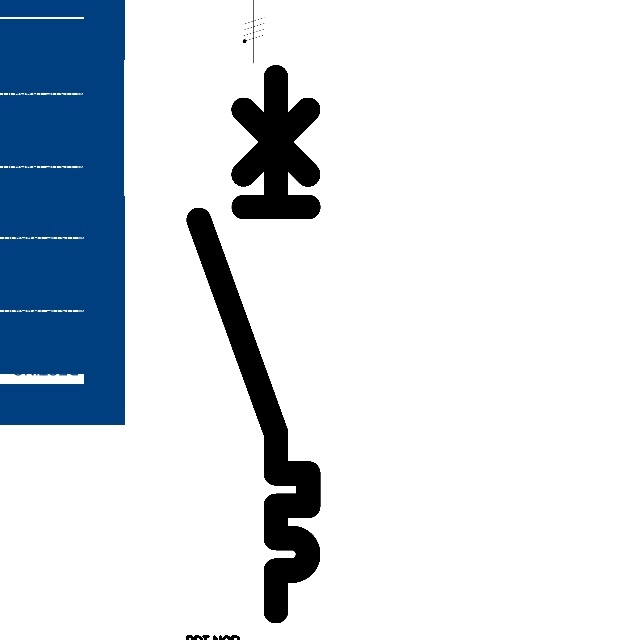interruptor_termomagnetico: (185, 63, 322, 624)
